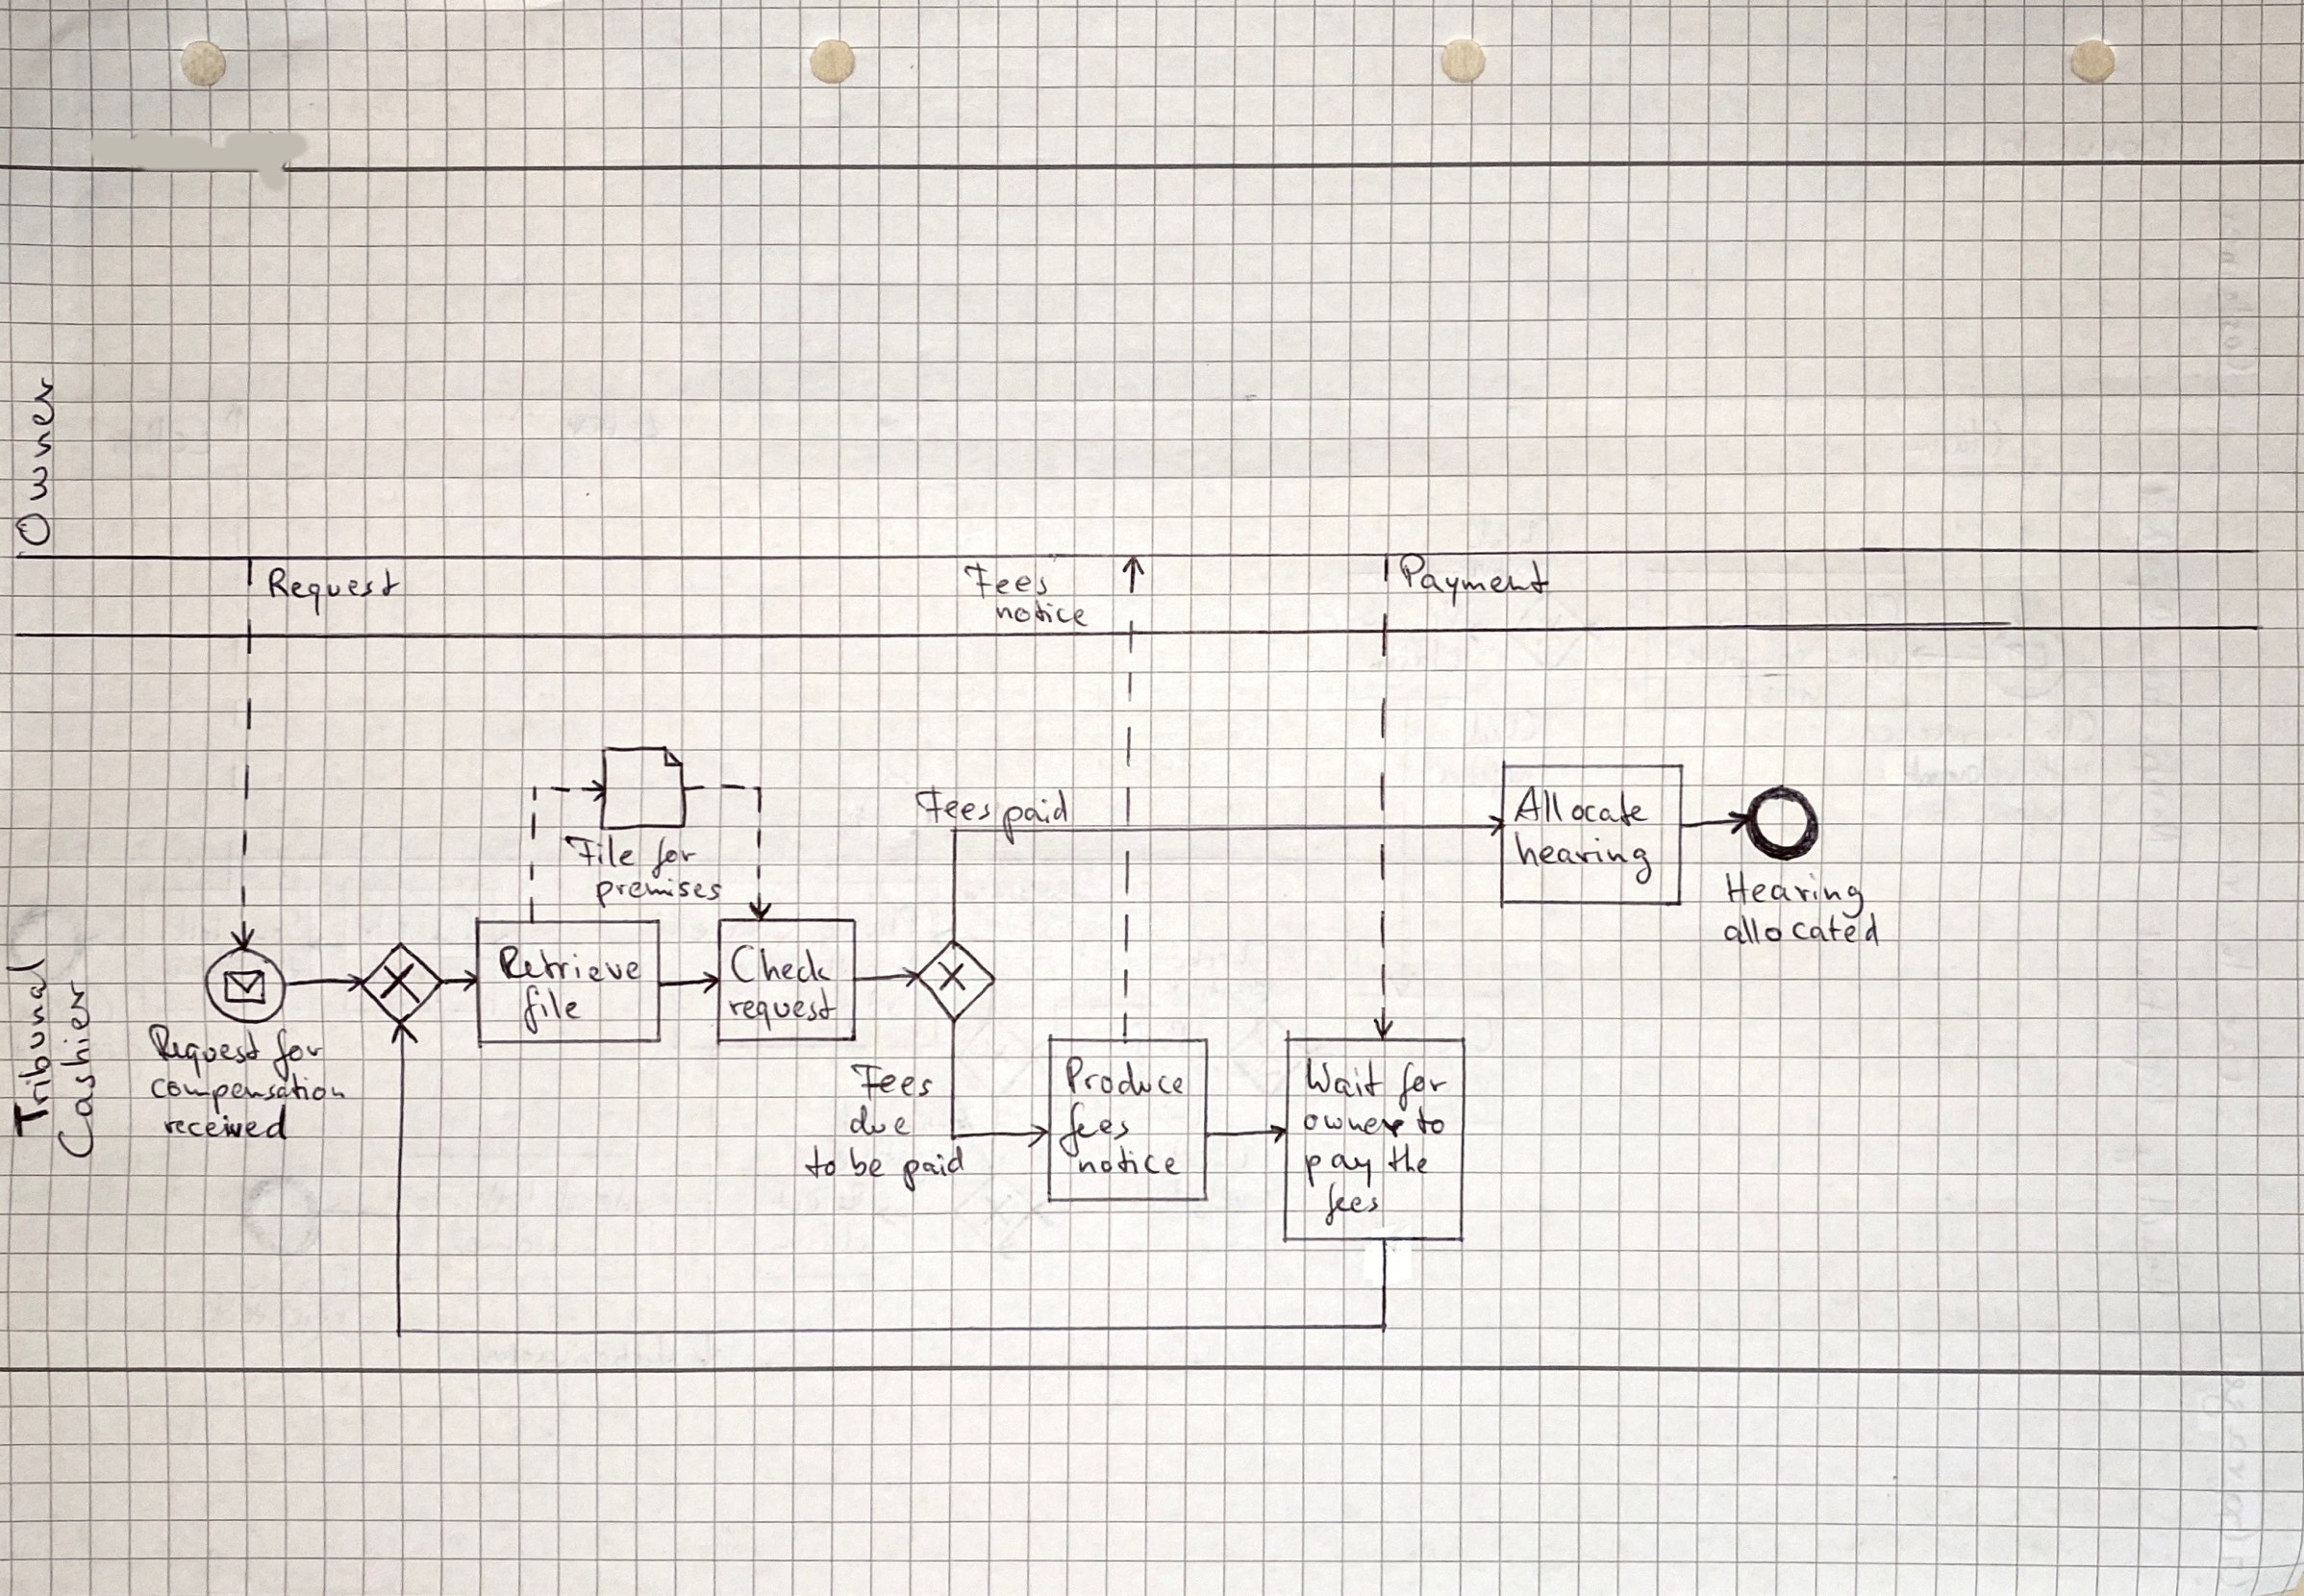Allocate: (1509, 782, 1654, 831)
Cashier: (54, 975, 100, 1164)
Check: (727, 940, 835, 987)
Fees: (846, 1060, 938, 1104), (959, 560, 1050, 602), (912, 782, 994, 828)
File: (560, 831, 639, 873)
Hearing: (1721, 868, 1868, 922)
Owner: (11, 371, 61, 551)
Payment: (1395, 549, 1555, 612)
Produce: (1061, 1053, 1189, 1102)
Request: (264, 563, 406, 621), (144, 1022, 264, 1082)
Retrieve: (494, 942, 646, 985)
Tribunal: (2, 954, 56, 1144)
Wait: (1301, 1055, 1385, 1102)
allocated: (1719, 908, 1886, 952)
be: (846, 1143, 889, 1183)
compensation: (147, 1067, 348, 1118)
due: (846, 1101, 916, 1141)
fees: (1056, 1097, 1134, 1162), (1320, 1176, 1383, 1232)
file: (520, 980, 585, 1038)
for: (270, 1025, 327, 1085), (1394, 1060, 1453, 1116), (648, 833, 702, 884)
hearing: (1511, 826, 1656, 889)
notice: (1071, 1143, 1185, 1181), (993, 595, 1092, 630)
owner: (1299, 1109, 1409, 1143)
paid: (998, 786, 1073, 850), (896, 1143, 970, 1195)
pay: (1297, 1150, 1374, 1192)
premises: (592, 873, 725, 912)
received: (159, 1101, 292, 1146)
request: (723, 983, 842, 1036)
the: (1383, 1139, 1432, 1179)
to: (798, 1141, 842, 1185), (1411, 1102, 1450, 1139)
